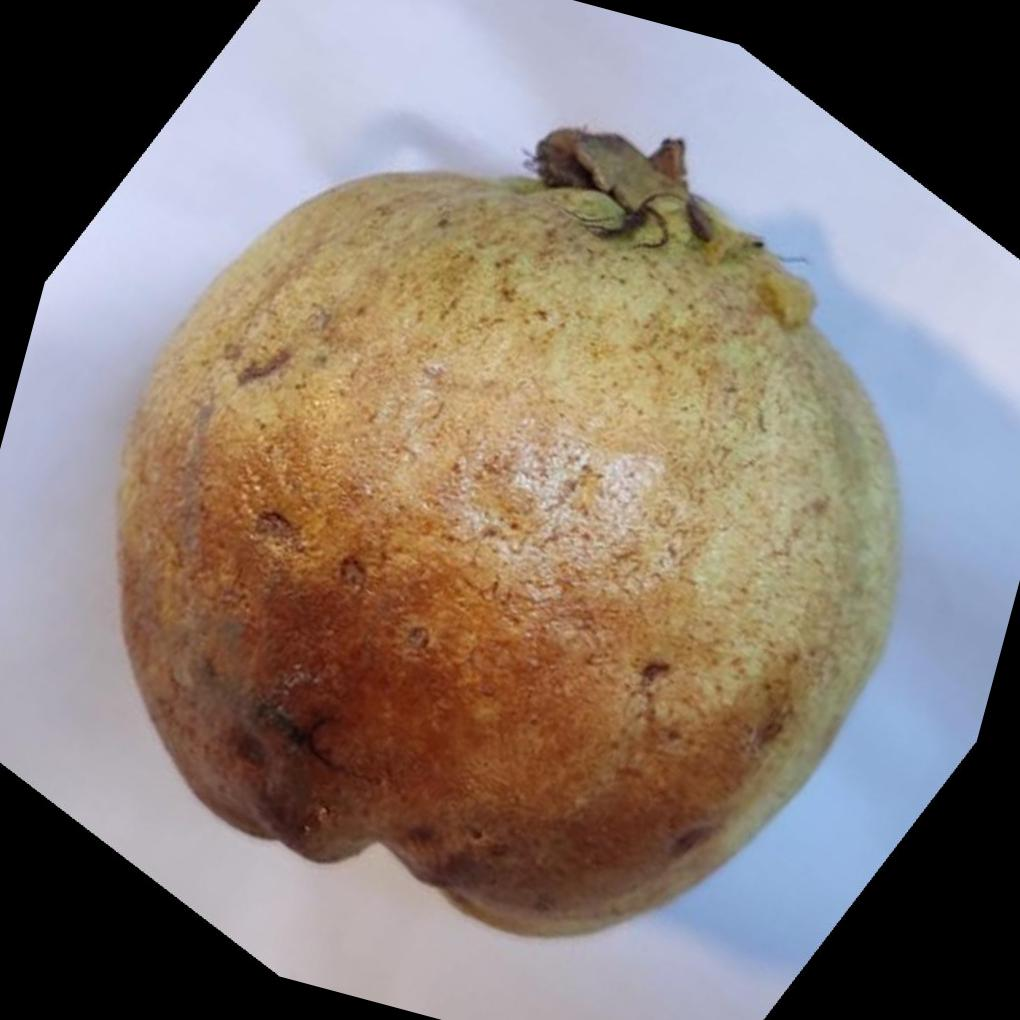FreshOrange: (113, 122, 902, 936)
